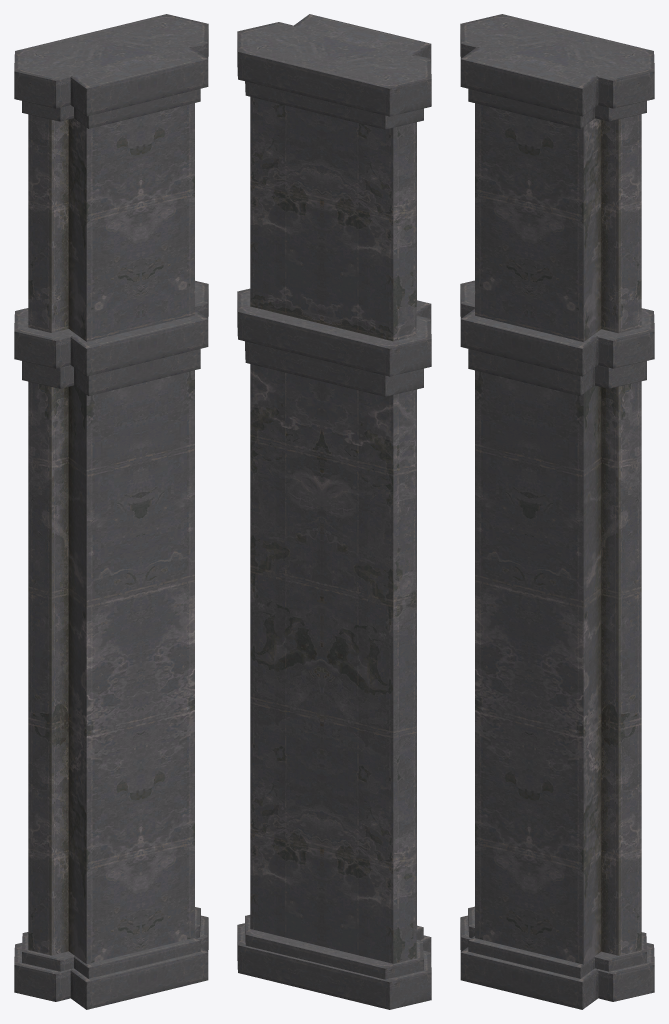
Rendered from bg_rad_kamen_column02_sm_jjh.obj.
3 renders of one model, left to right at view 1: azimuth 30°, elevation 25°; view 2: azimuth 150°, elevation 25°; view 3: azimuth 330°, elevation 25°, orthographic.
Parts seen in each view (by area): view 1: bg_rad_kamen_column02_sm_jjh_1, bg_rad_kamen_column02_sm_jjh_0; view 2: bg_rad_kamen_column02_sm_jjh_1, bg_rad_kamen_column02_sm_jjh_0; view 3: bg_rad_kamen_column02_sm_jjh_1, bg_rad_kamen_column02_sm_jjh_0.
Boxes of the visible parts, x1,y1,x2,y2 form: bg_rad_kamen_column02_sm_jjh_1: (28, 103, 194, 964); bg_rad_kamen_column02_sm_jjh_0: (14, 14, 208, 1009); bg_rad_kamen_column02_sm_jjh_1: (250, 97, 416, 963); bg_rad_kamen_column02_sm_jjh_0: (237, 14, 431, 1009); bg_rad_kamen_column02_sm_jjh_1: (475, 103, 641, 964); bg_rad_kamen_column02_sm_jjh_0: (460, 14, 654, 1009).
Bounding box in the file's own units: 1.22 × 5.5 × 0.6144.
2 materials, 2 textured.
